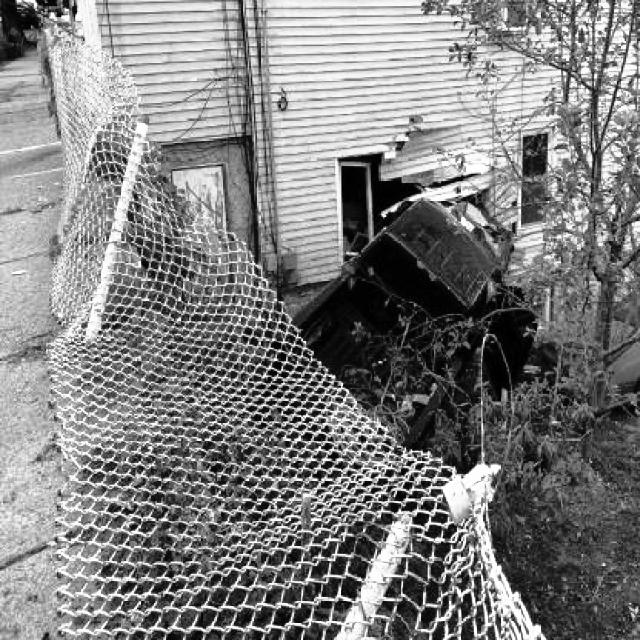anomaly-fence: (54, 108, 528, 636)
